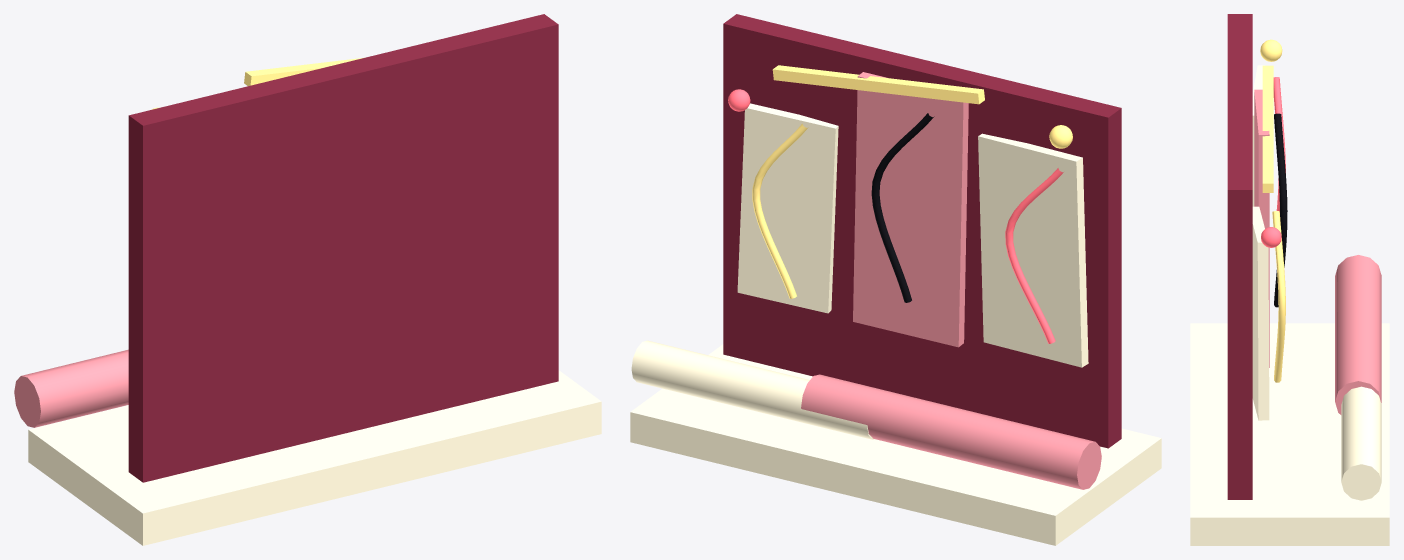
File: atelier-pattern-wall.glb
The picture shows the model from 3 angles, left to right: view 1: azimuth 30°, elevation 25°; view 2: azimuth 150°, elevation 25°; view 3: azimuth 270°, elevation 25°; orthographic projection. The views are drawn at different scales.
Parts seen in each view (by area): view 1: pattern-wall-back, pattern-wall-base, fabric-roll-coral, tailor-ruler-wall; view 2: pattern-wall-back, pattern-wall-base, paper-sheet-center, paper-sheet-left, paper-sheet-right, fabric-roll-coral, fabric-roll-cream, tailor-ruler-wall, pattern-curve-center, pattern-curve-left, pattern-curve-right; view 3: pattern-wall-base, pattern-wall-back, fabric-roll-coral, fabric-roll-cream, paper-sheet-right, paper-sheet-center, tailor-ruler-wall, pattern-curve-right, pattern-curve-center, paper-sheet-left, pattern-curve-left, pin-left (+1 smaller).
Boxes of the visible parts, <box> form: pattern-wall-back: <box>128,14,558,482</box>; pattern-wall-base: <box>28,370,601,545</box>; fabric-roll-coral: <box>14,349,128,427</box>; tailor-ruler-wall: <box>244,57,364,86</box>; pattern-wall-back: <box>723,14,1121,448</box>; pattern-wall-base: <box>630,344,1161,545</box>; paper-sheet-center: <box>853,72,968,347</box>; paper-sheet-left: <box>978,133,1088,367</box>; paper-sheet-right: <box>737,103,838,313</box>; fabric-roll-coral: <box>801,374,1101,489</box>; fabric-roll-cream: <box>631,340,874,439</box>; tailor-ruler-wall: <box>772,65,984,104</box>; pattern-curve-center: <box>871,113,934,302</box>; pattern-curve-left: <box>1005,168,1063,343</box>; pattern-curve-right: <box>752,123,808,298</box>; pattern-wall-base: <box>1190,323,1389,545</box>; pattern-wall-back: <box>1227,14,1252,499</box>; fabric-roll-coral: <box>1335,255,1381,414</box>; fabric-roll-cream: <box>1341,386,1381,500</box>; paper-sheet-right: <box>1252,206,1269,420</box>; paper-sheet-center: <box>1254,89,1269,367</box>; tailor-ruler-wall: <box>1262,65,1273,192</box>; pattern-curve-right: <box>1272,211,1285,382</box>; pattern-curve-center: <box>1274,113,1287,307</box>; paper-sheet-left: <box>1252,65,1264,206</box>; pattern-curve-left: <box>1273,77,1285,212</box>; pin-left: <box>1260,39,1282,61</box>.
Bounding box in the file's own units: 1.55 × 1.24 × 0.64.
